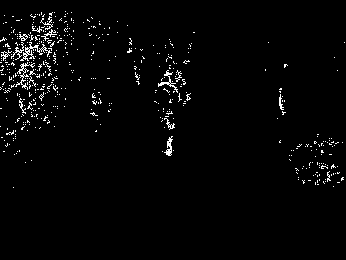person: (153, 76, 180, 158)
